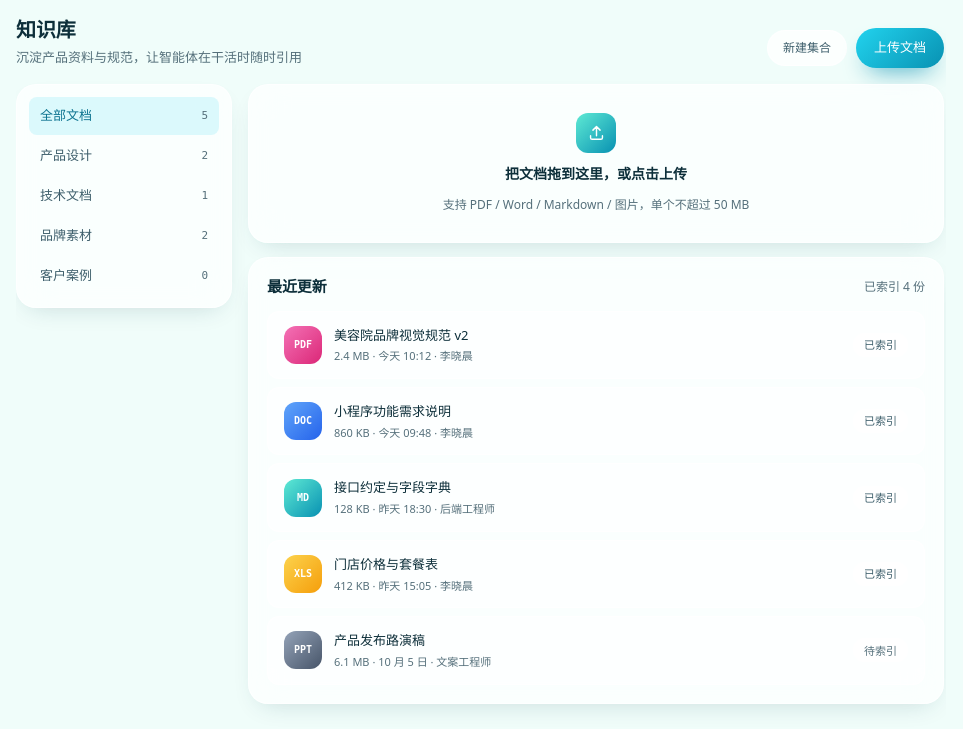
filtering by category narrows the list to that category
Expected: the heading "知识库" is shown, [16,16,76,43]
Click the button "产品设计 2". click: (124, 156)
box: [29,137,219,175]
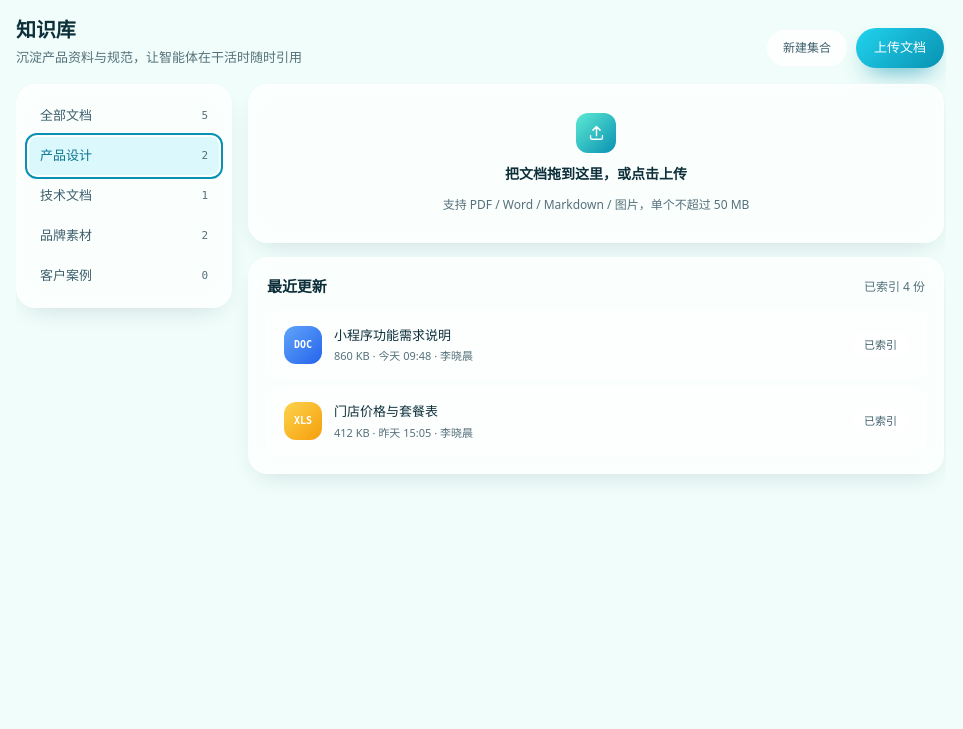
Expected: the text "小程序功能需求说明" is shown, [334,326,451,344]
Now the text "接口约定与字段字典" is gone
